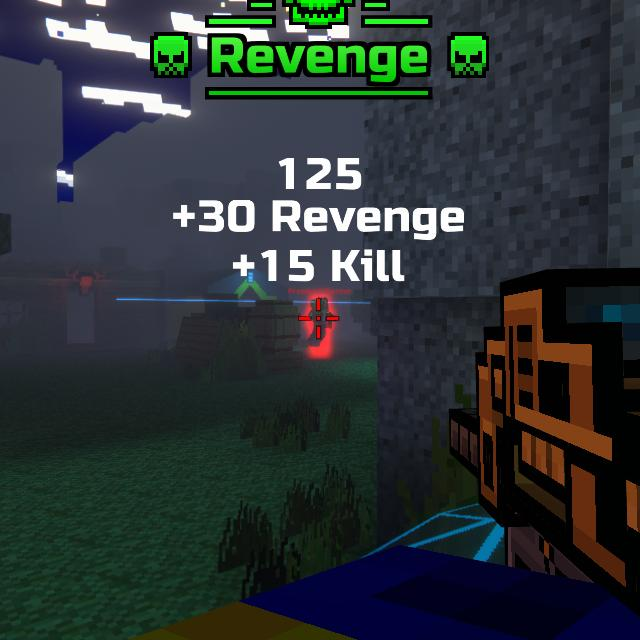Enemy: (307, 297, 334, 347)
